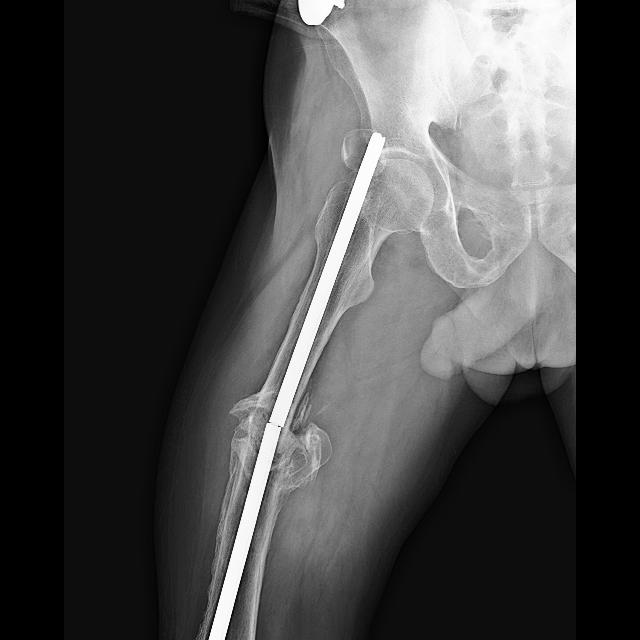Fracture: (225, 386, 335, 495)
